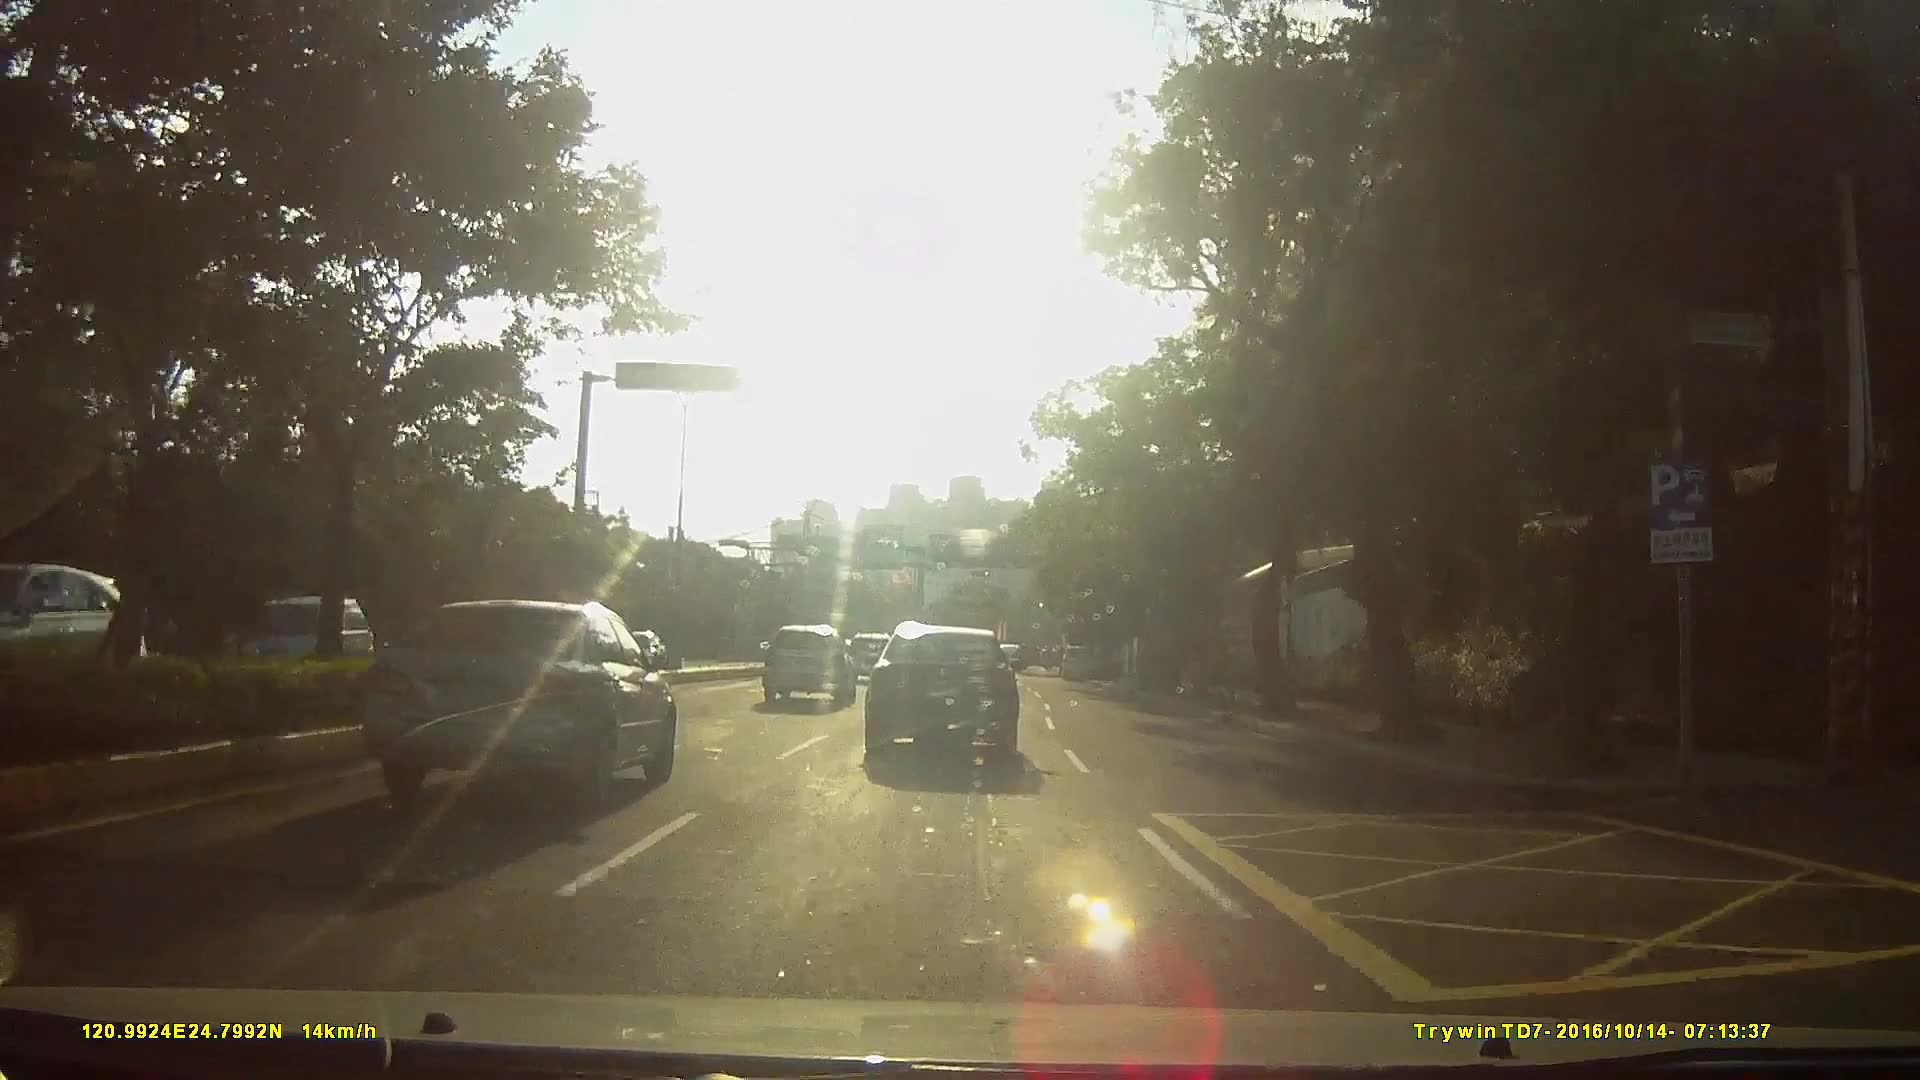vehicle: (364, 596, 678, 810), (865, 620, 1044, 767), (1, 560, 141, 704), (236, 592, 380, 692), (756, 626, 856, 713), (843, 632, 897, 684), (1060, 647, 1102, 686)
